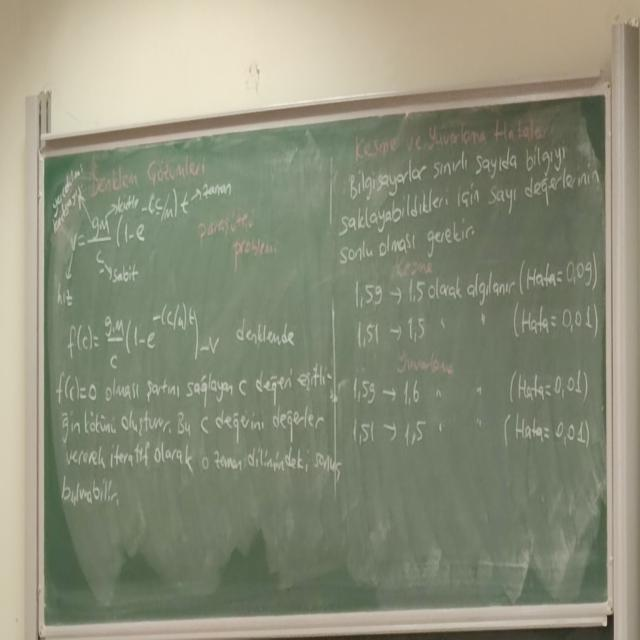math: (346, 266, 605, 470), (50, 183, 196, 282), (59, 280, 225, 366)
text: (57, 369, 345, 521), (338, 136, 604, 273), (349, 115, 554, 147), (74, 153, 216, 188)
